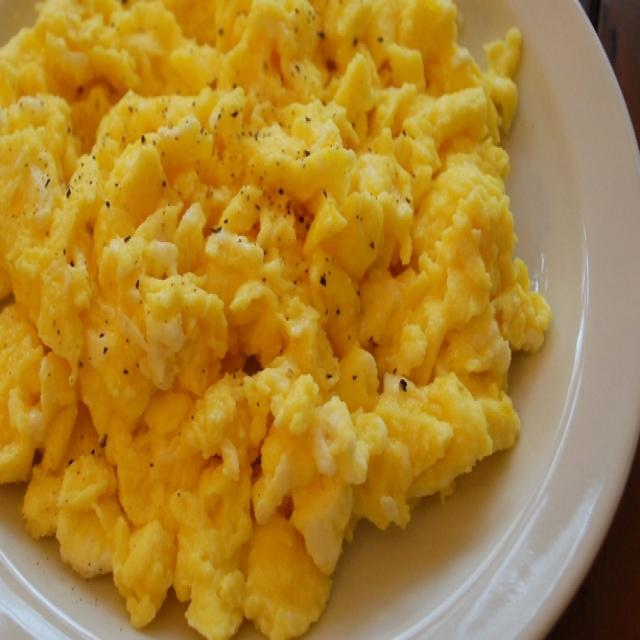鸡蛋料理: (15, 28, 588, 599)
